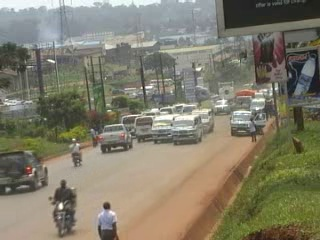Car: (0, 147, 50, 196)
Motorcycle: (46, 178, 82, 237), (66, 136, 85, 169)
